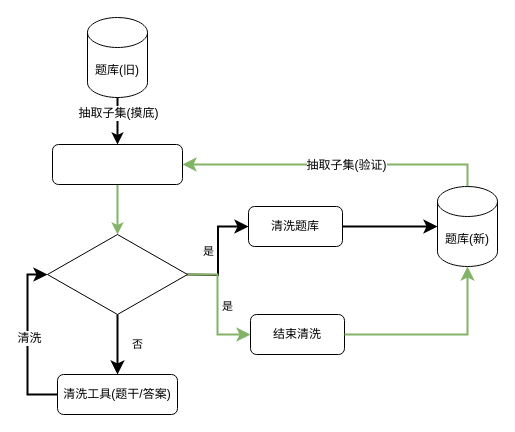
The diagram is 515 pixels wide and 432 high, and some of its shapes have lost their labels. Here are the shapes that lost their labels. From the top down, the centre of each, then its label:
At [117,164]: "题库抽取数据(人工标注)".
At [117,274]: "答案准确率是否达标".
